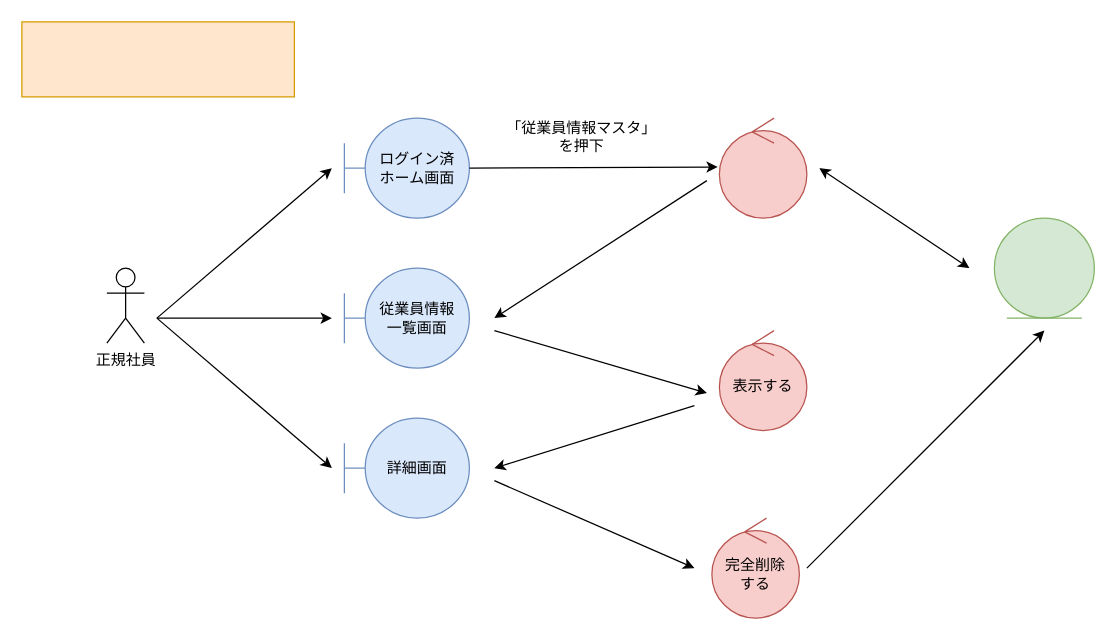
Some shapes in this 1116 by 640 pixel diagram are drawn without their labels. Here are the shapes that lost their labels. From the top down, the centre of each, then its label:
the point at 157,59: 従業員情報管理_完全削除
the point at 762,167: 従業員情報 を取得する
the point at 1043,267: 従業員情報
